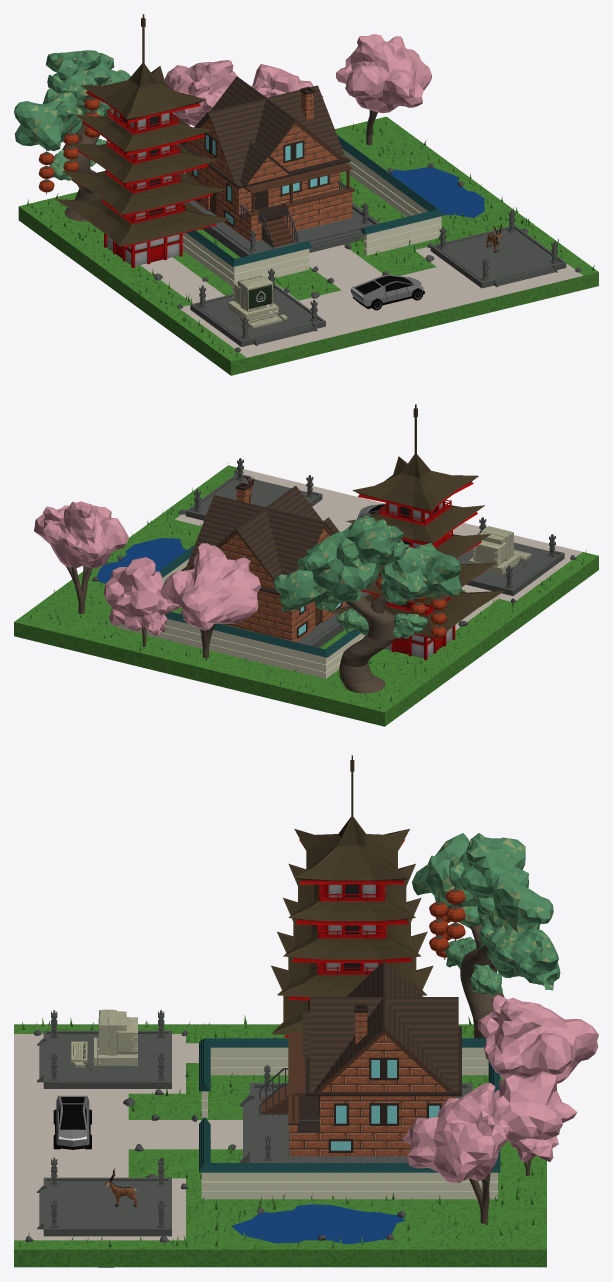
3 renders of one model, top to bottom at view 1: azimuth 30°, elevation 25°; view 2: azimuth 150°, elevation 25°; view 3: azimuth 270°, elevation 25°, orthographic. The views are drawn at different scales.
Parts seen in each view (by area): view 1: Cube.005, Cube.469, OBJRANDOM_RETRO_PC, VEHICLES_CYBERTRUCK; view 2: Cube.005, Cube.469, OBJRANDOM_RETRO_PC; view 3: Cube.005, Cube.469, OBJRANDOM_RETRO_PC, VEHICLES_CYBERTRUCK.
Boxes of the visible parts, bbox=[...] form: Cube.005: bbox=[14, 14, 598, 375]; Cube.469: bbox=[179, 76, 354, 248]; OBJRANDOM_RETRO_PC: bbox=[228, 275, 287, 328]; VEHICLES_CYBERTRUCK: bbox=[350, 274, 424, 310]; Cube.005: bbox=[14, 404, 598, 726]; Cube.469: bbox=[181, 482, 347, 642]; OBJRANDOM_RETRO_PC: bbox=[469, 526, 531, 574]; Cube.005: bbox=[14, 755, 598, 1267]; Cube.469: bbox=[259, 961, 461, 1156]; OBJRANDOM_RETRO_PC: bbox=[71, 1009, 137, 1070]; VEHICLES_CYBERTRUCK: bbox=[53, 1095, 91, 1149].
Bounding box in the file's own units: 4528 × 2663 × 4389.
36 materials, 6 textured.
